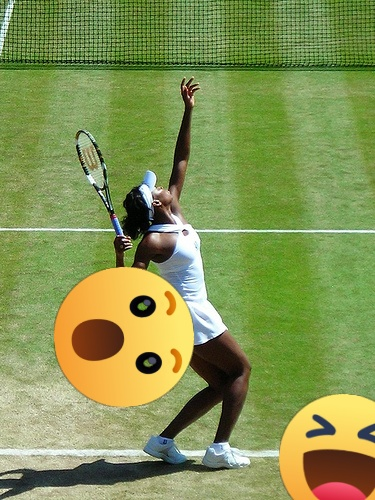haha: (279, 394, 375, 500)
wow: (54, 267, 194, 407)
